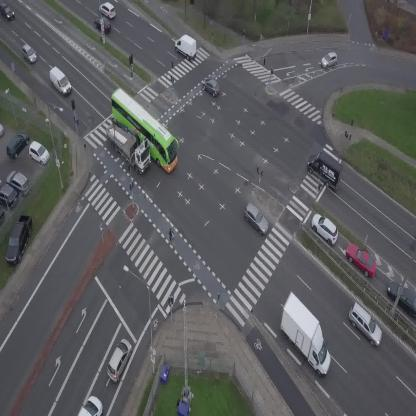bicycle: (166, 228, 177, 246)
bus: (98, 85, 189, 175)
car: (342, 301, 389, 348), (340, 238, 382, 281), (102, 336, 136, 384), (306, 210, 344, 247), (239, 201, 273, 236), (90, 13, 115, 38), (199, 75, 223, 99), (17, 42, 39, 66), (78, 396, 102, 416), (318, 50, 340, 70), (0, 1, 17, 23)
lorry: (265, 289, 348, 379), (97, 113, 160, 176), (302, 147, 350, 192), (170, 30, 202, 62), (45, 65, 76, 97)
